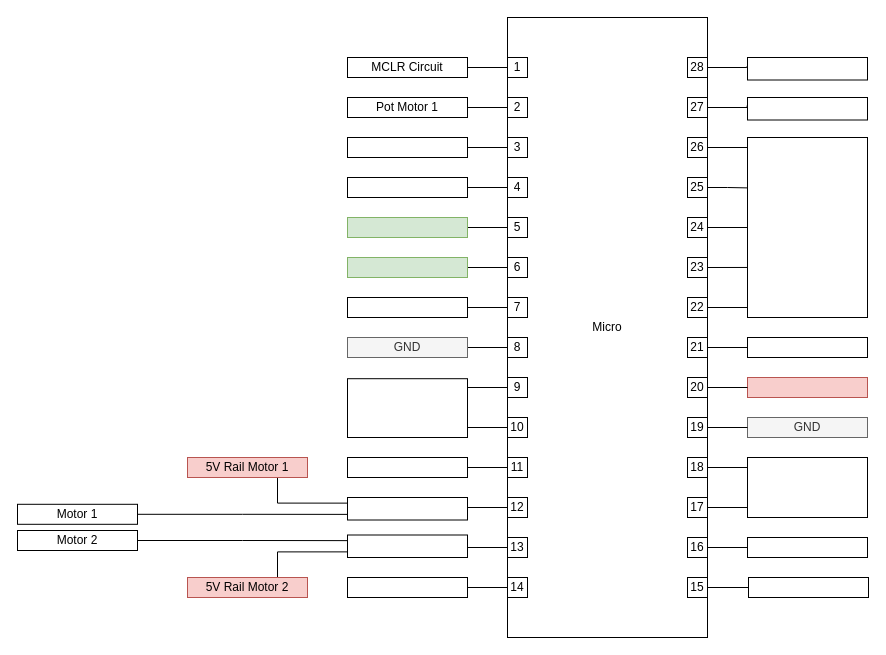
Image size: 886x655. Some labels were removed from this diagram. Each missing label, with the centre of its shape:
5V Rail System: the point at 807,387
EEPROM / CS: the point at 407,187
EEPROM / SCK: the point at 407,587
EEPROM / SDA: the point at 808,587
EEPROM / SDO: the point at 807,547
External Interrupt Circuit: the point at 807,347
HS Crystal circuit: the point at 407,408
LCD: the point at 407,307
LCD 1 x 16 4 bit mode: the point at 807,227
Motor Driver 1 / Dir: the point at 807,68
Motor Driver 1 / Step: the point at 407,508
Motor Driver 2 / Dir: the point at 807,108
Motor Driver 2 / Step: the point at 407,546
On Board LED: the point at 407,467
Pot Motor 2: the point at 407,147
Spare Analog: the point at 407,227
Spare Digital: the point at 407,267
USB to USART Module: the point at 807,487
